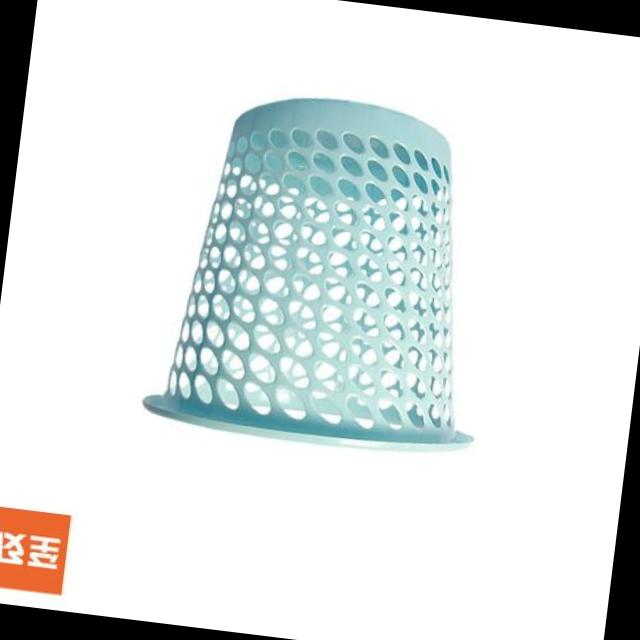dustbin: (136, 76, 520, 468)
